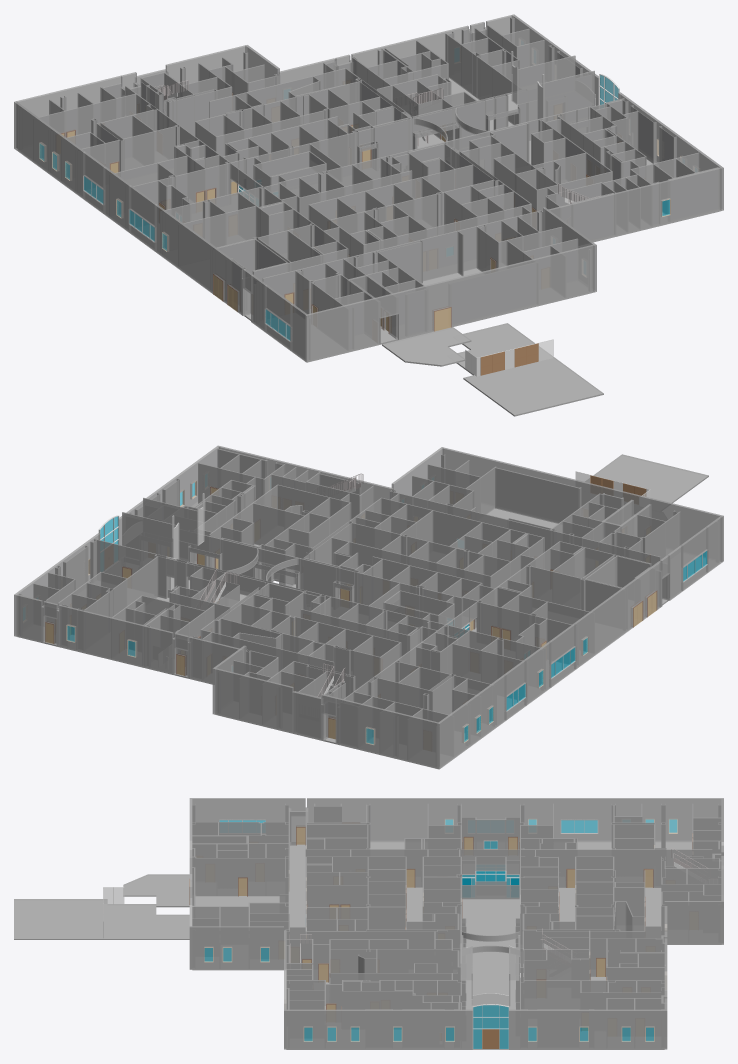
File: clinic.glb
The picture shows the model from 3 angles, top to bottom: view 1: azimuth 30°, elevation 25°; view 2: azimuth 150°, elevation 25°; view 3: azimuth 270°, elevation 25°; orthographic projection. The views are drawn at different scales.
Visible parts, largest first — view 1: First Floor; view 2: First Floor; view 3: First Floor.
Boxes of the visible parts, left/top/right/bottom form: First Floor: left=14, top=14, right=723, bottom=416; First Floor: left=14, top=445, right=723, bottom=769; First Floor: left=14, top=798, right=723, bottom=1049.
Size of the model in its own units: 52.69 by 10.46 by 75.62.
